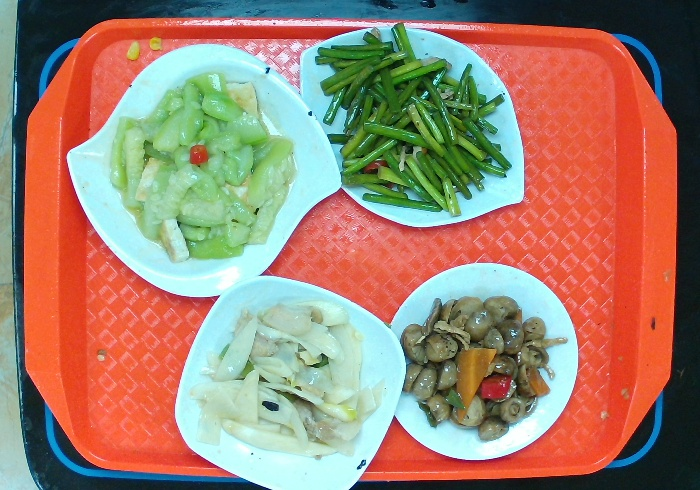RJxy-Da_Du_Pan: (300, 23, 527, 232)
RJxy-Shuang_Jiao_Pan: (57, 41, 346, 302)
RJxy-Si_Fang_Wan: (167, 272, 410, 490)
RJxy-Xiao_Yuan_Die: (383, 263, 581, 459)
